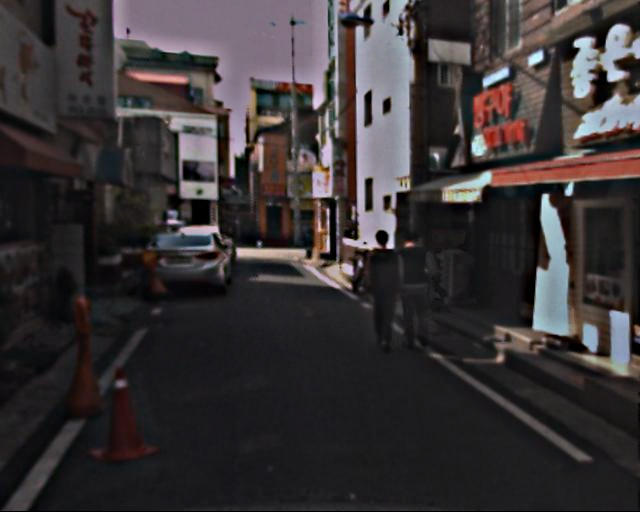person: (391, 233, 439, 351), (359, 230, 407, 347)
